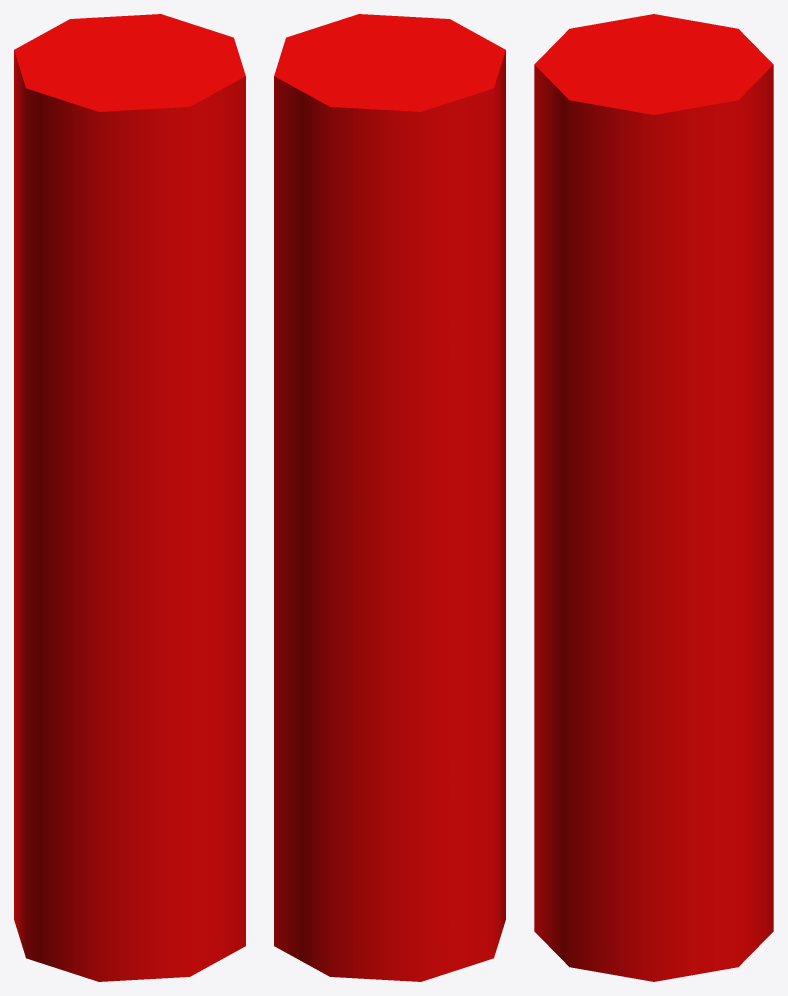
File: spinnerCylinder.fbx
3 views of the same model, side by side, from view 1: azimuth 30°, elevation 25°; view 2: azimuth 150°, elevation 25°; view 3: azimuth 270°, elevation 25° (orthographic).
Parts seen in each view (by area): view 1: cylinder; view 2: cylinder; view 3: cylinder.
Boxes of the visible parts, <box> form: cylinder: <box>14,14,245,981</box>; cylinder: <box>274,14,505,981</box>; cylinder: <box>534,14,773,981</box>.
Bounding box in the file's own units: 2 × 8 × 2.
